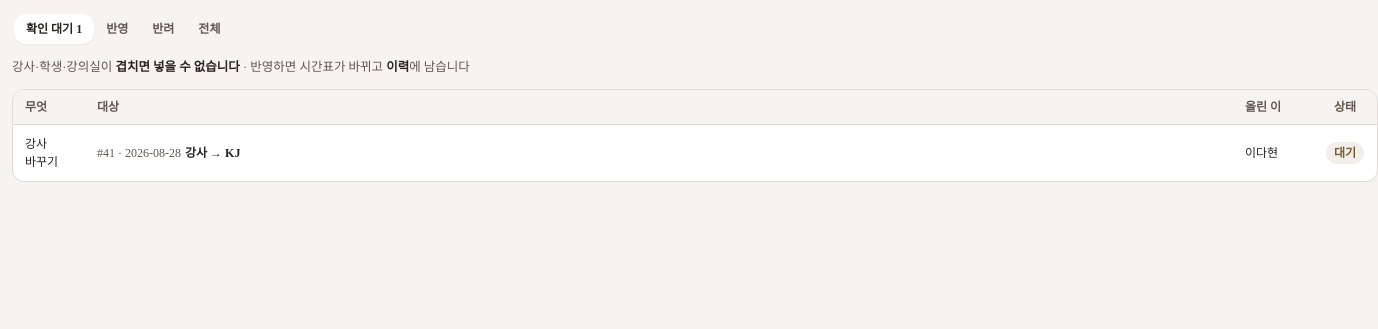
Test: 탭을 바꾸면 그 상태만 보인다 — 전체는 셋 다
What coordinates should you click on to do the following:
click the button "반영"
I would click on:
 (117, 29)
Its box is [94,14,140,44].
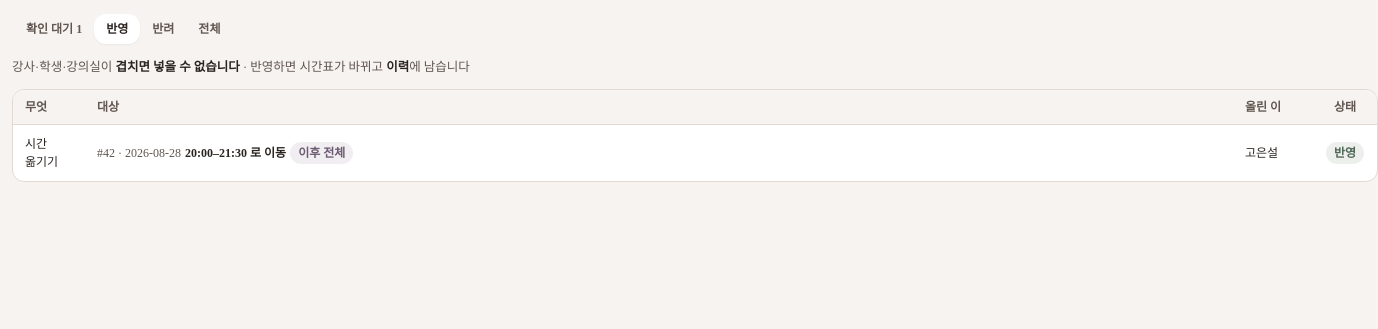
Expected: the text "20:00–21:30 로 이동" is shown, [185,146,286,160]
Expected: the text "이후 전체" is shown, [290,142,353,164]
What coordinates should you click on to do the following:
click the button "전체"
I would click on:
 (209, 29)
Its box is [186,14,232,44].
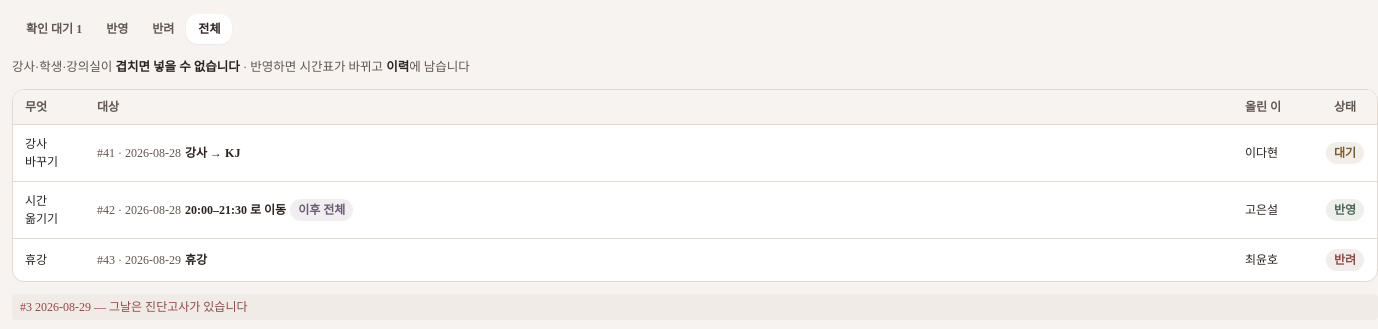
Expected: the text "강사 → KJ" is shown, [185,146,240,160]
Expected: the text "휴강" is shown, [13,238,85,281]
